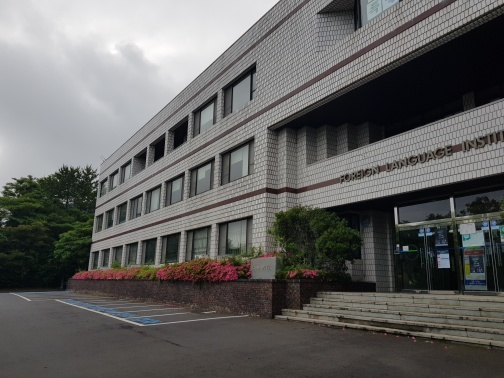Foreign Language Institute: (88, 12, 498, 347), (293, 113, 501, 348), (140, 137, 256, 219)
